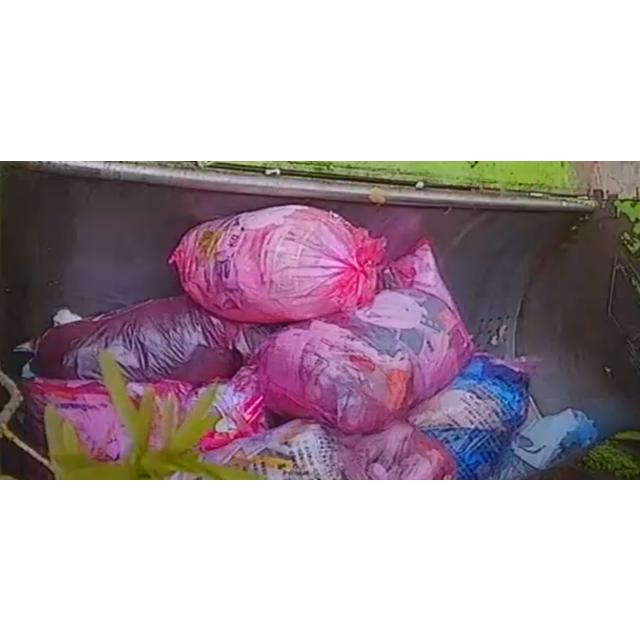other_trashbag: (258, 239, 474, 432), (169, 204, 385, 322), (31, 294, 279, 384), (204, 419, 458, 479), (408, 354, 529, 479), (486, 408, 598, 479)
